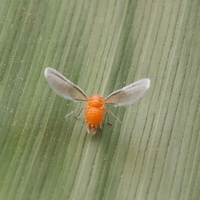insect: (44, 67, 149, 134)
